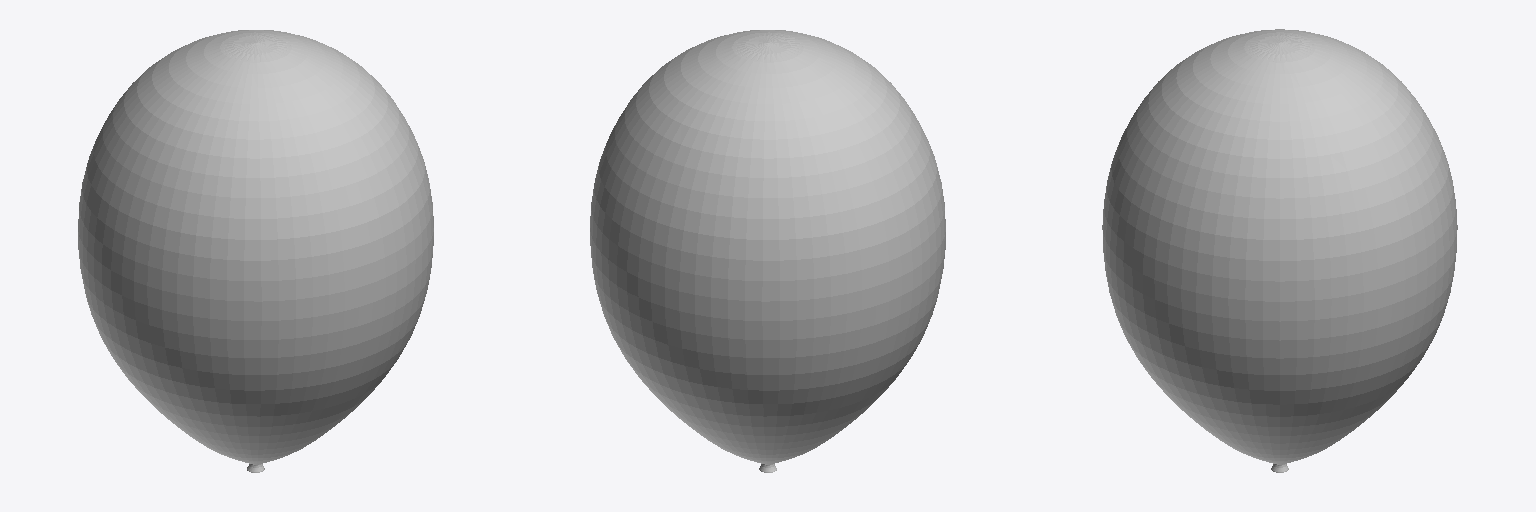
The model's file is Globo14.obj.
3 renders of one model, left to right at view 1: azimuth 30°, elevation 25°; view 2: azimuth 150°, elevation 25°; view 3: azimuth 270°, elevation 25°, orthographic.
Parts seen in each view (by area): view 1: Sphere.011; view 2: Sphere.011; view 3: Sphere.011.
Part boxes in pixels (x1,y1,x2,y2): Sphere.011: (78, 30, 433, 472); Sphere.011: (590, 30, 945, 472); Sphere.011: (1102, 29, 1457, 472).
Size of the model in its own units: 0.5211 by 0.688 by 0.519.